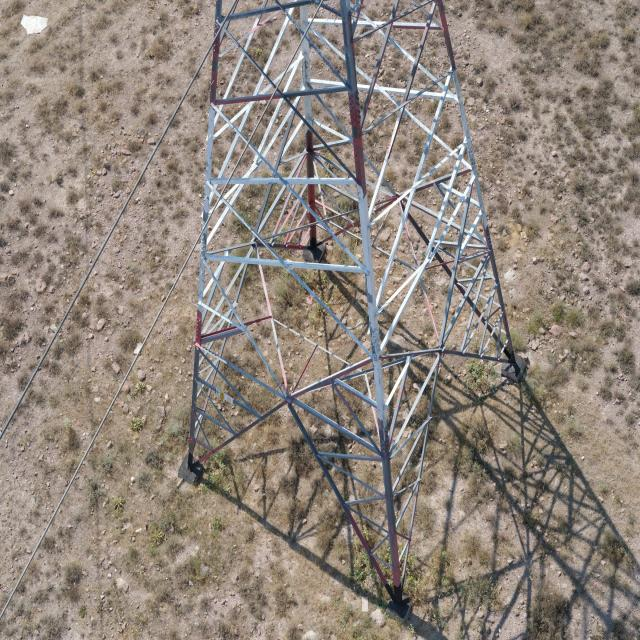voltage_line: (188, 0, 566, 625)
